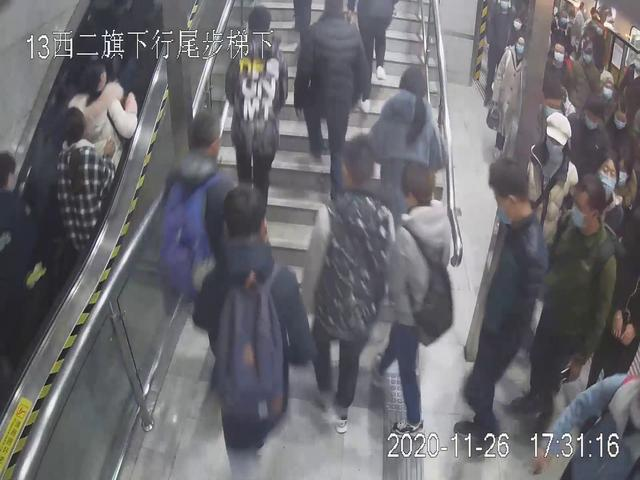person: (209, 179, 312, 480), (456, 152, 550, 480), (301, 130, 394, 431), (513, 169, 614, 445), (157, 114, 251, 385), (374, 156, 449, 443), (219, 3, 294, 235), (291, 2, 376, 201), (43, 108, 123, 287), (364, 66, 445, 226), (58, 49, 137, 172)
